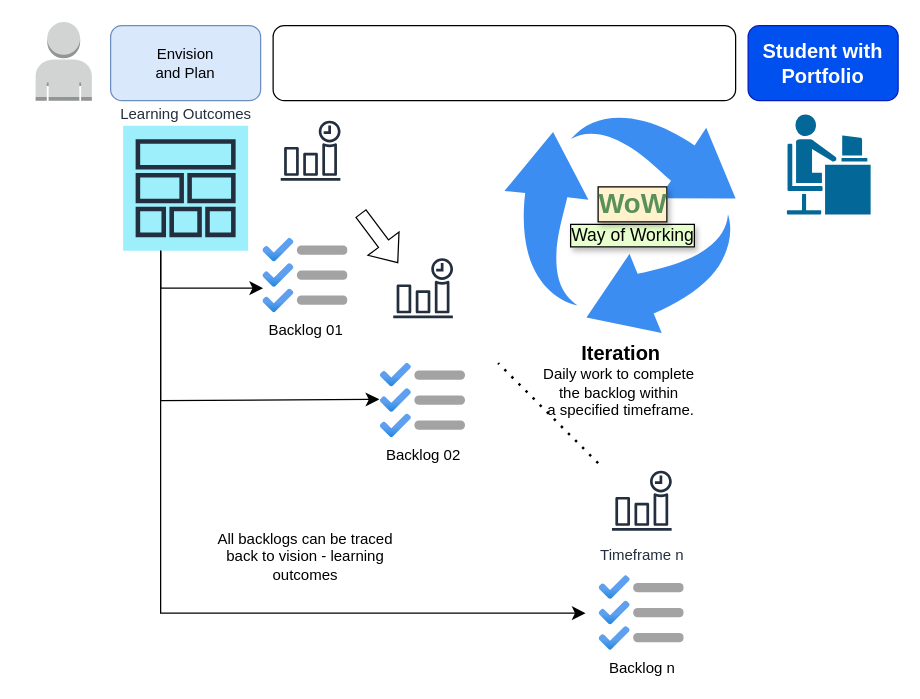
Some shapes in this 920 by 699 pixel diagram are drawn without their labels. Here are the shapes that lost their labels. From the top down, the box of each, then its label:
(34, 21, 92, 101): Enthusiastic Student
(272, 24, 736, 101): Transformation Process
(272, 112, 348, 188): Timeframe 01
(384, 249, 461, 326): Timeframe 02
